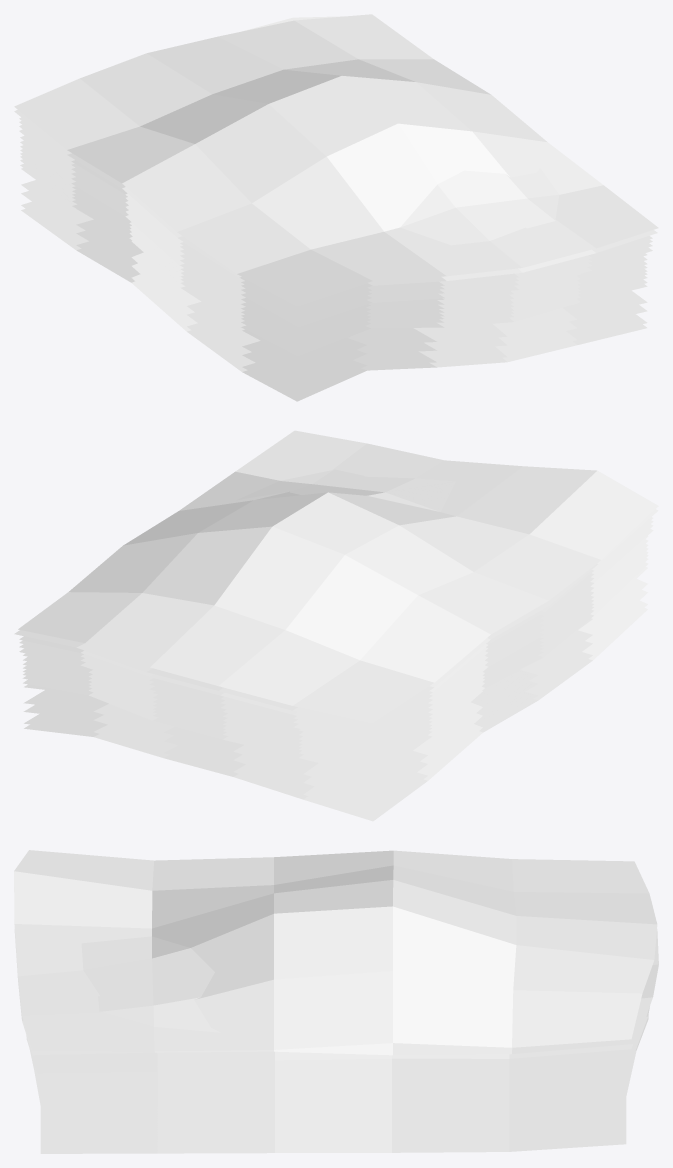
Rendered from marul_toplu.fbx.
The picture shows the model from 3 angles, top to bottom: view 1: azimuth 30°, elevation 25°; view 2: azimuth 150°, elevation 25°; view 3: azimuth 270°, elevation 25°; orthographic projection. The views are drawn at different scales.
Parts seen in each view (by area): view 1: m20, m19, m5, m3, m4, m2, m15, m7, m13, m16, m18, m12 (+7 smaller); view 2: m20, m5, m19, m3, m4, m2, m7, m15, m13, m16, m18, m12 (+7 smaller); view 3: m20, m19, m5, m3, m4, m18, m7, m2, m15, m13, m12, m16 (+7 smaller).
Part boxes in pixels (left/top/right/bottom): m20: left=14, top=14, right=658, bottom=305; m19: left=14, top=16, right=657, bottom=310; m5: left=21, top=180, right=647, bottom=375; m3: left=21, top=202, right=647, bottom=396; m4: left=21, top=191, right=647, bottom=384; m2: left=21, top=209, right=646, bottom=401; m15: left=19, top=129, right=652, bottom=327; m7: left=20, top=164, right=647, bottom=356; m13: left=20, top=141, right=647, bottom=333; m16: left=19, top=125, right=652, bottom=322; m18: left=19, top=117, right=652, bottom=314; m12: left=20, top=145, right=647, bottom=337; m20: left=18, top=430, right=658, bottom=723; m5: left=23, top=578, right=647, bottom=795; m19: left=14, top=469, right=658, bottom=728; m3: left=24, top=600, right=647, bottom=816; m4: left=23, top=590, right=647, bottom=804; m2: left=24, top=608, right=647, bottom=821; m7: left=23, top=562, right=648, bottom=776; m15: left=19, top=528, right=653, bottom=744; m13: left=23, top=539, right=648, bottom=753; m16: left=19, top=524, right=653, bottom=739; m18: left=19, top=517, right=653, bottom=732; m12: left=23, top=544, right=648, bottom=757; m20: left=14, top=850, right=657, bottom=1051; m19: left=14, top=887, right=658, bottom=1055; m5: left=40, top=1100, right=626, bottom=1126; m3: left=40, top=1126, right=626, bottom=1148; m4: left=40, top=1117, right=626, bottom=1135; m18: left=35, top=1044, right=632, bottom=1060; m7: left=30, top=1015, right=648, bottom=1108; m2: left=40, top=1139, right=626, bottom=1153; m15: left=26, top=1006, right=649, bottom=1073; m13: left=39, top=1062, right=628, bottom=1084; m12: left=38, top=1062, right=629, bottom=1088; m16: left=33, top=1011, right=648, bottom=1068.
Bounding box in the file's own units: 55.18 × 23.91 × 78.31.
